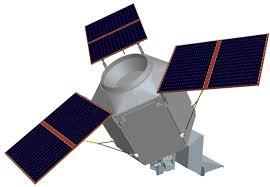body: (87, 50, 198, 168)
solar: (3, 88, 115, 186), (154, 30, 270, 95), (82, 1, 150, 67)
